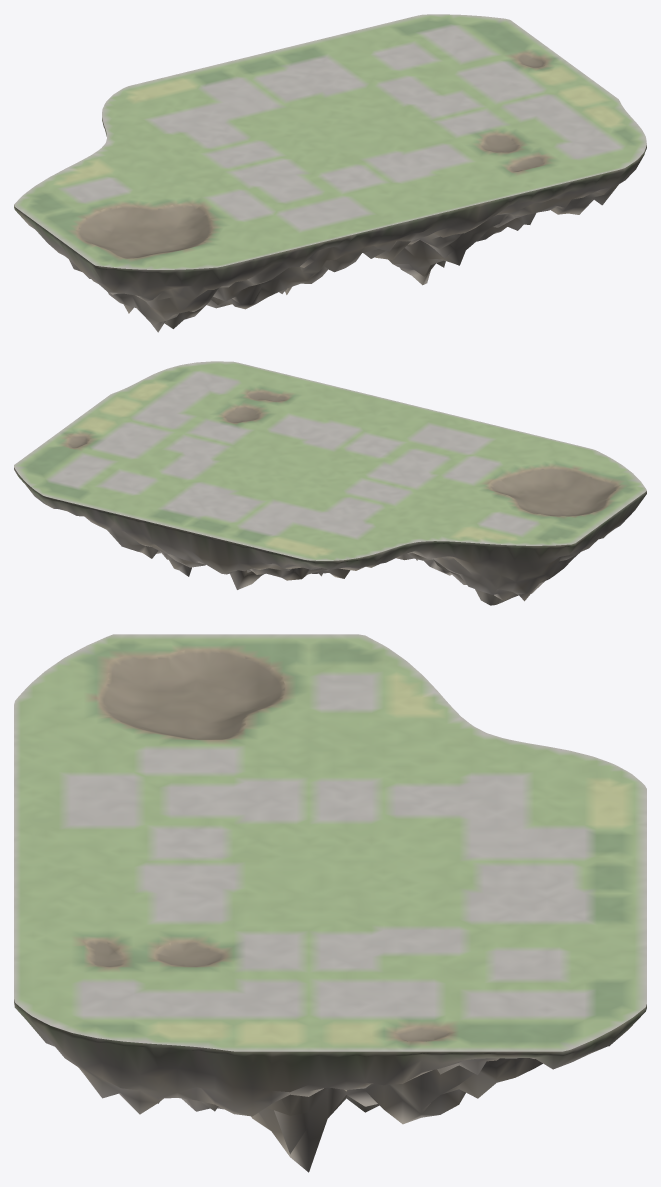
Rendered from SKY-051.rock.glb.
3 renders of one model, top to bottom at view 1: azimuth 30°, elevation 25°; view 2: azimuth 150°, elevation 25°; view 3: azimuth 270°, elevation 25°, orthographic. The views are drawn at different scales.
Visible parts, largest first — view 1: deck-col, rock; view 2: deck-col, rock; view 3: deck-col, rock.
Boxes of the visible parts, <box> form: deck-col: <box>14,14,646,269</box>; rock: <box>14,118,646,332</box>; deck-col: <box>14,361,646,560</box>; rock: <box>14,467,646,605</box>; deck-col: <box>14,634,646,1051</box>; rock: <box>14,999,646,1172</box>.
Size of the model in its own units: 315 by 86.33 by 202.
